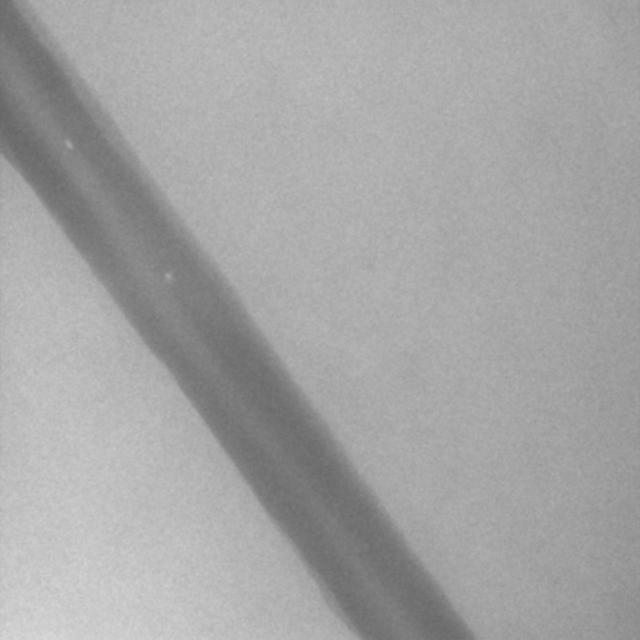air hole: (63, 137, 74, 151), (163, 270, 174, 283)
